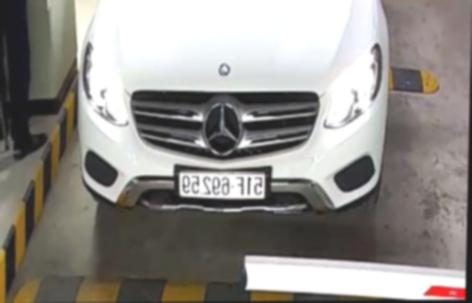License_Plate: (179, 169, 267, 203)
